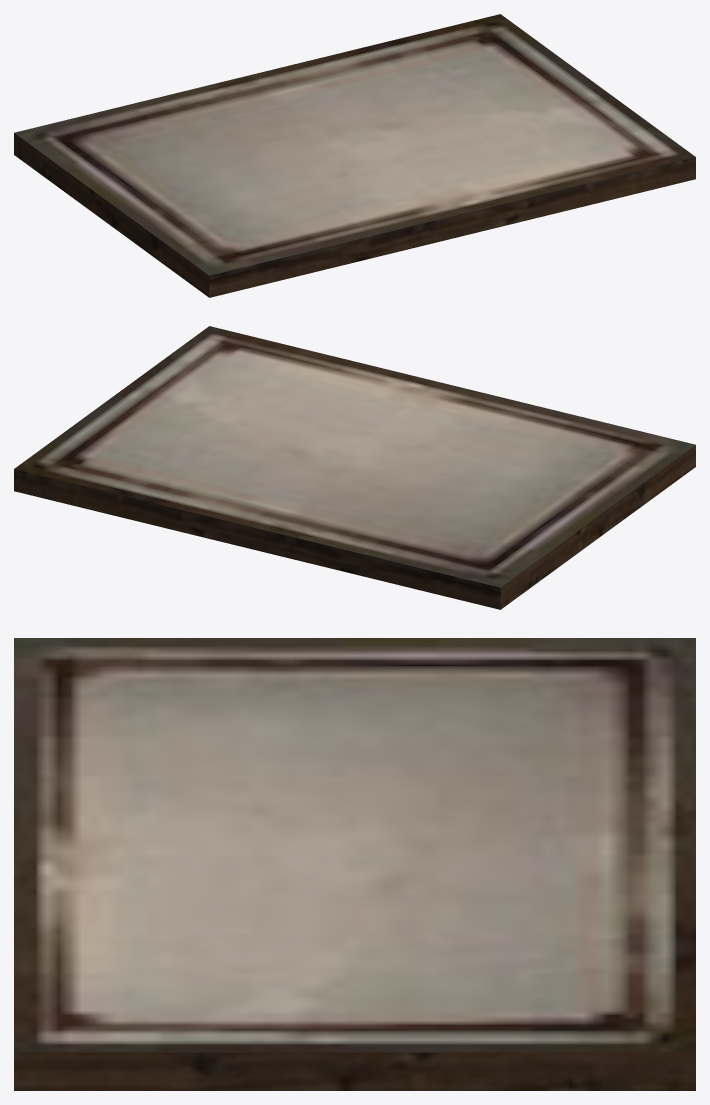
File: prop_pictureframe01.glb
The picture shows the model from 3 angles, top to bottom: view 1: azimuth 30°, elevation 25°; view 2: azimuth 150°, elevation 25°; view 3: azimuth 270°, elevation 25°; orthographic projection. The views are drawn at different scales.
Bounding box in the file's own units: 23 × 1 × 16.
1 material, 1 textured.
